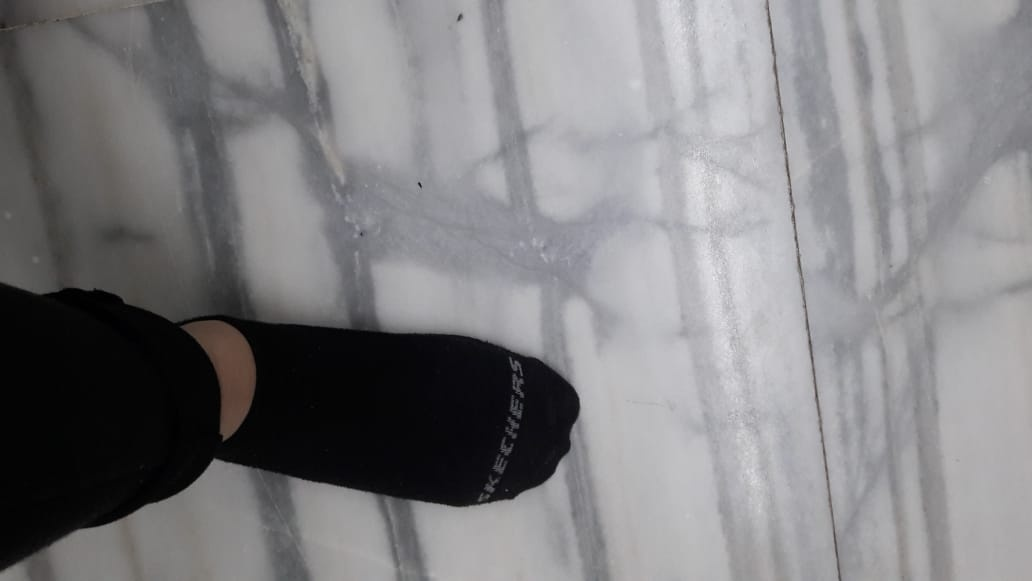feet: (107, 301, 584, 505)
